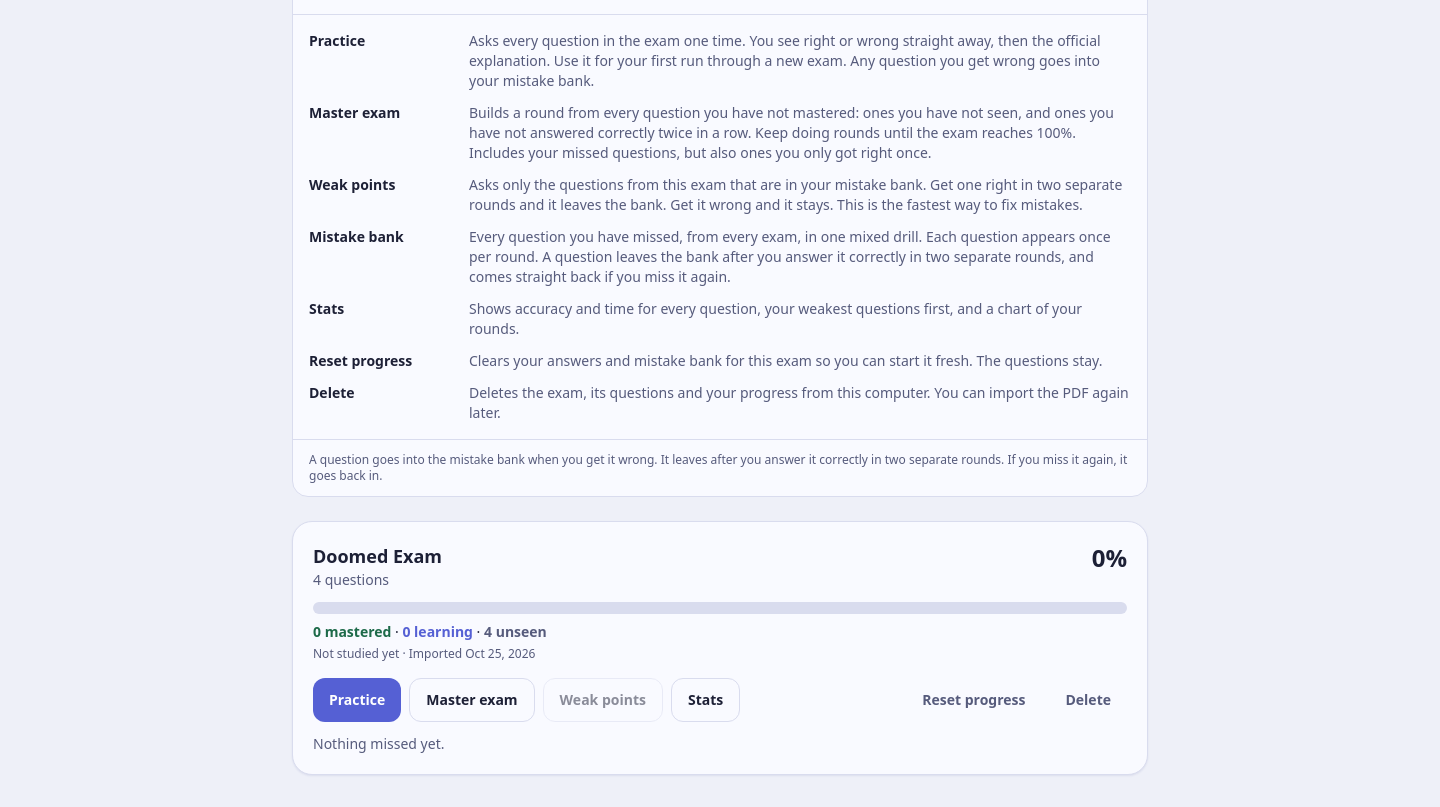
Test: LibraryScreen › asks before deleting, names the exam, and can be cancelled
The width and height of the screenshot is (1440, 807).
(page scrolled)
Click the button with aria-label "Delete Doomed Exam" at (1088, 700), box top-left (1050, 678), bottom-right (1127, 722)
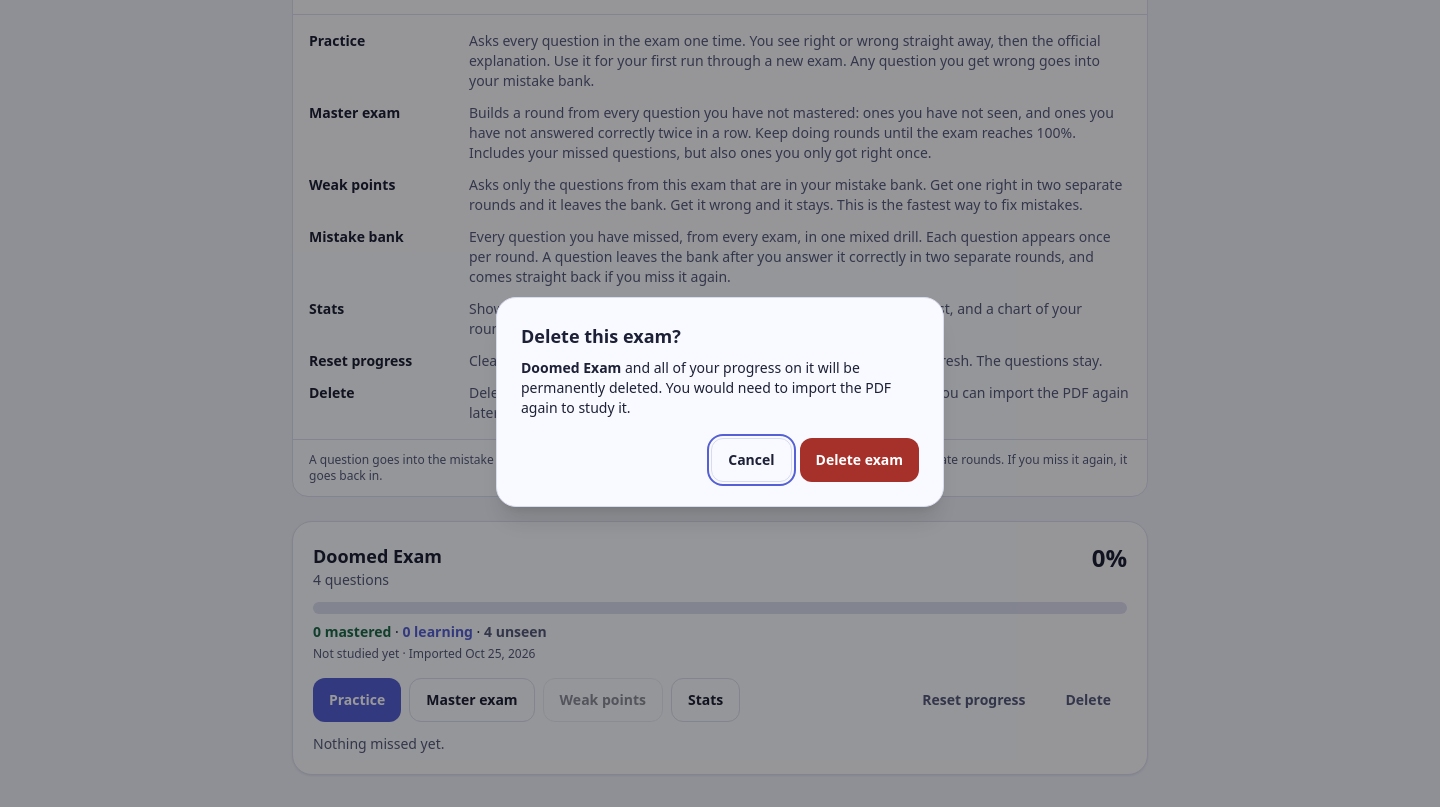
Check: the text "permanently" is shown, box top-left (521, 358), bottom-right (891, 417)
Check: the text "Doomed Exam" is shown, box top-left (521, 358), bottom-right (621, 377)
Press Escape
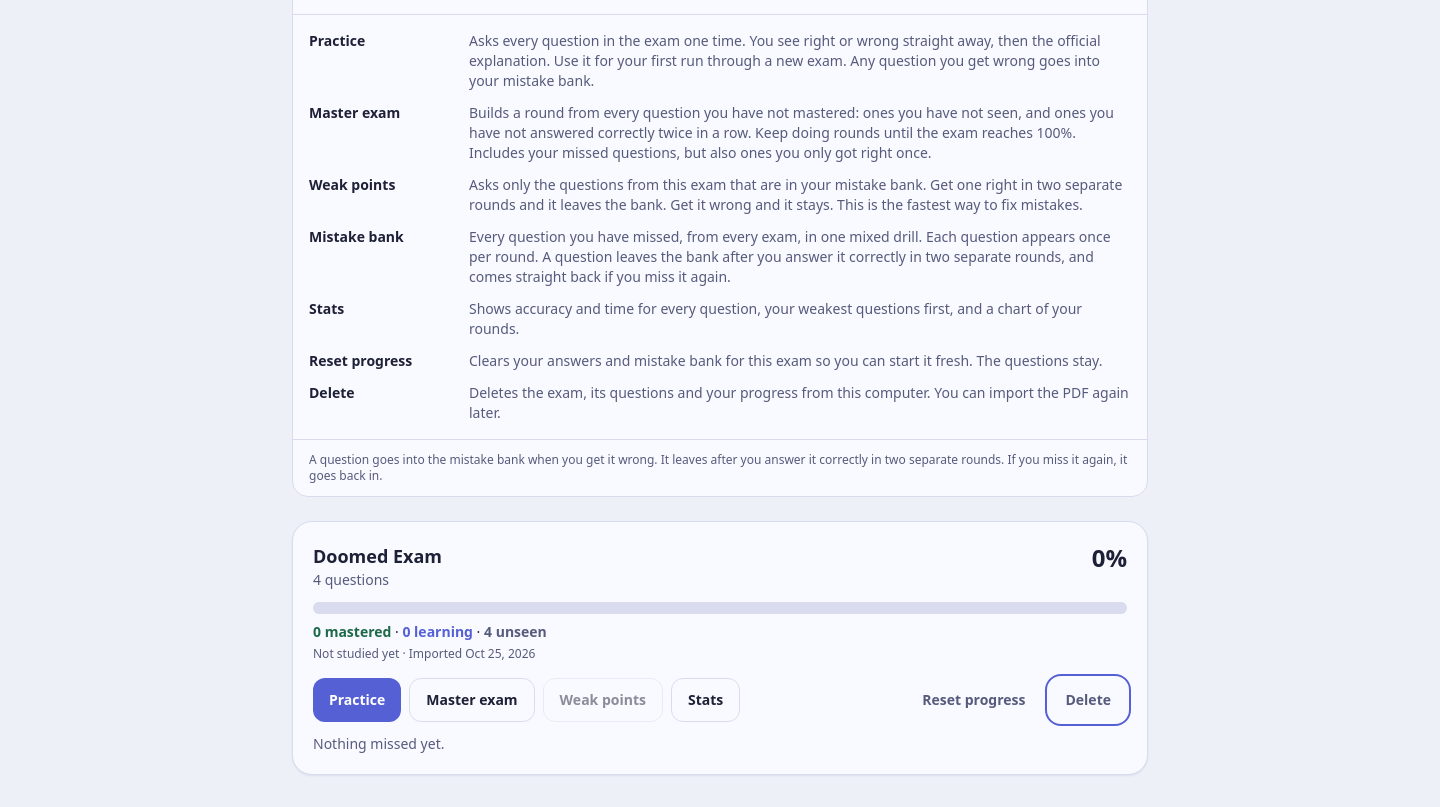
Check: the dialog is gone
